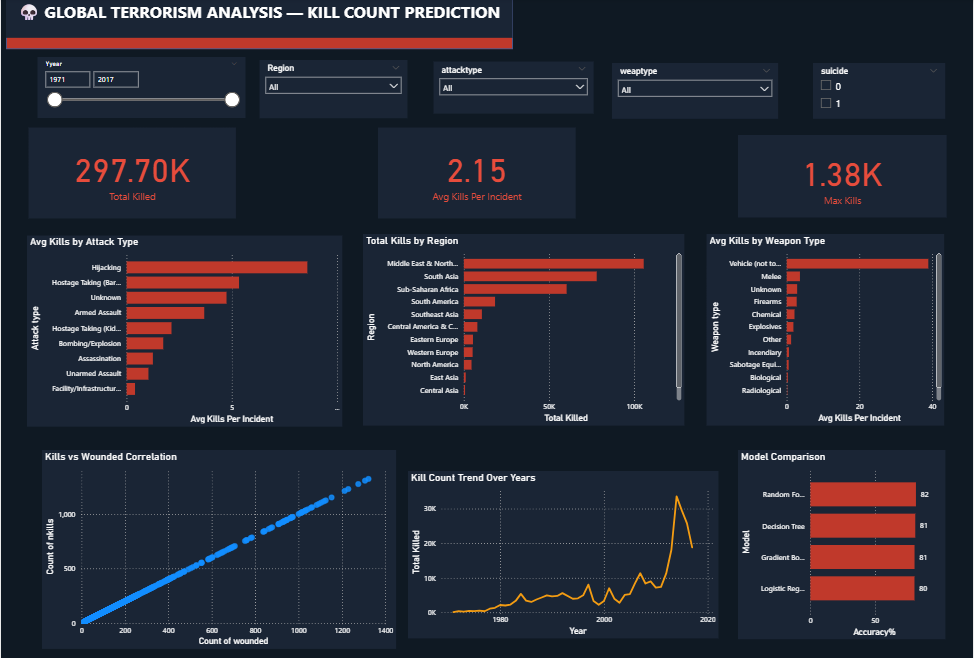

This screenshot's page, from the dashboard's own definition file:
{"tool":"powerbi","page":{"name":"Kill Count Prediction","canvas":[1605,1100],"ordinal":5},"visuals":[{"type":"shape","box":[0,0,1606,1100],"z":0},{"type":"shape","box":[10,0,836,86],"z":1000},{"type":"textbox","box":[10,0,835,67.5],"z":2000},{"type":"card","fields":{"Values":["Global Terrorism Data.Total Killed"]},"box":[46,214,342,150],"z":3000},{"type":"card","fields":{"Values":["Global Terrorism Data.Avg Kills Per Incident"]},"box":[624,214,326,150],"z":4000},{"type":"card","fields":{"Values":["Global Terrorism Data.Max Kills"]},"box":[1216,228,344,136],"z":5000},{"type":"clusteredBarChart","title":"Avg Kills by Attack Type","fields":{"Category":["Global Terrorism Data.attacktype1_txt"],"Y":["Global Terrorism Data.Avg Kills Per Incident"]},"box":[45,392.5,520,315],"z":6000},{"type":"clusteredBarChart","title":"Total Kills by Region","fields":{"Category":["Global Terrorism Data.region_txt"],"Y":["Global Terrorism Data.Total Killed"]},"box":[598,392,530,316],"z":7000},{"type":"scatterChart","title":"Kills vs Wounded Correlation","fields":{"X":["CountNonNull(Global Terrorism Data.nwound)"],"Y":["CountNonNull(Global Terrorism Data.nkill)"],"Category":["Global Terrorism Data.eventid"]},"box":[70,746,584,328],"z":8000},{"type":"lineChart","title":" Kill Count Trend Over Years","fields":{"Category":["Global Terrorism Data.iyear"],"Y":["Global Terrorism Data.Total Killed"]},"box":[672,782,512,276],"z":9000},{"type":"clusteredBarChart","title":"Model Comparison","fields":{"Category":["model_comparison.Model"],"Y":["Sum(model_comparison.Accuracy %)"]},"box":[1216,746,342,312],"z":10000},{"type":"clusteredBarChart","title":" Avg Kills by Weapon Type","fields":{"Category":["Global Terrorism Data.weaptype1_txt"],"Y":["Global Terrorism Data.Avg Kills Per Incident"]},"box":[1166,392,392,316],"z":11000},{"type":"slicer","fields":{"Values":["Global Terrorism Data.iyear"]},"box":[62,100,342,100],"z":12000},{"type":"slicer","fields":{"Values":["Global Terrorism Data.region_txt"]},"box":[428,104,244,96],"z":13000},{"type":"slicer","fields":{"Values":["Global Terrorism Data.attacktype1_txt"]},"box":[714,106,264,86],"z":14000},{"type":"slicer","fields":{"Values":["Global Terrorism Data.weaptype1_txt"]},"box":[1010,108,274,92],"z":15000},{"type":"slicer","fields":{"Values":["Global Terrorism Data.suicide"]},"box":[1342,108,218,92],"z":16000}]}

Visuals, with their boxes in screenshot pixels (x1, y1, x2, y2), scaled from the page's 1605x1100 canvas onto the 974x658 screenshot:
shape: {"x1": 0, "y1": 0, "x2": 973, "y2": 657}
shape: {"x1": 6, "y1": 0, "x2": 513, "y2": 51}
textbox: {"x1": 6, "y1": 0, "x2": 513, "y2": 40}
card - Global Terrorism Data.Total Killed: {"x1": 28, "y1": 128, "x2": 235, "y2": 218}
card - Global Terrorism Data.Avg Kills Per Incident: {"x1": 379, "y1": 128, "x2": 577, "y2": 218}
card - Global Terrorism Data.Max Kills: {"x1": 738, "y1": 136, "x2": 947, "y2": 218}
"Avg Kills by Attack Type" clusteredBarChart: {"x1": 27, "y1": 235, "x2": 343, "y2": 423}
"Total Kills by Region" clusteredBarChart: {"x1": 363, "y1": 234, "x2": 685, "y2": 424}
"Kills vs Wounded Correlation" scatterChart: {"x1": 42, "y1": 446, "x2": 397, "y2": 642}
" Kill Count Trend Over Years" lineChart: {"x1": 408, "y1": 468, "x2": 719, "y2": 633}
"Model Comparison" clusteredBarChart: {"x1": 738, "y1": 446, "x2": 945, "y2": 633}
" Avg Kills by Weapon Type" clusteredBarChart: {"x1": 708, "y1": 234, "x2": 945, "y2": 424}
slicer - Global Terrorism Data.iyear: {"x1": 38, "y1": 60, "x2": 245, "y2": 120}
slicer - Global Terrorism Data.region_txt: {"x1": 260, "y1": 62, "x2": 408, "y2": 120}
slicer - Global Terrorism Data.attacktype1_txt: {"x1": 433, "y1": 63, "x2": 594, "y2": 115}
slicer - Global Terrorism Data.weaptype1_txt: {"x1": 613, "y1": 65, "x2": 779, "y2": 120}
slicer - Global Terrorism Data.suicide: {"x1": 814, "y1": 65, "x2": 947, "y2": 120}
